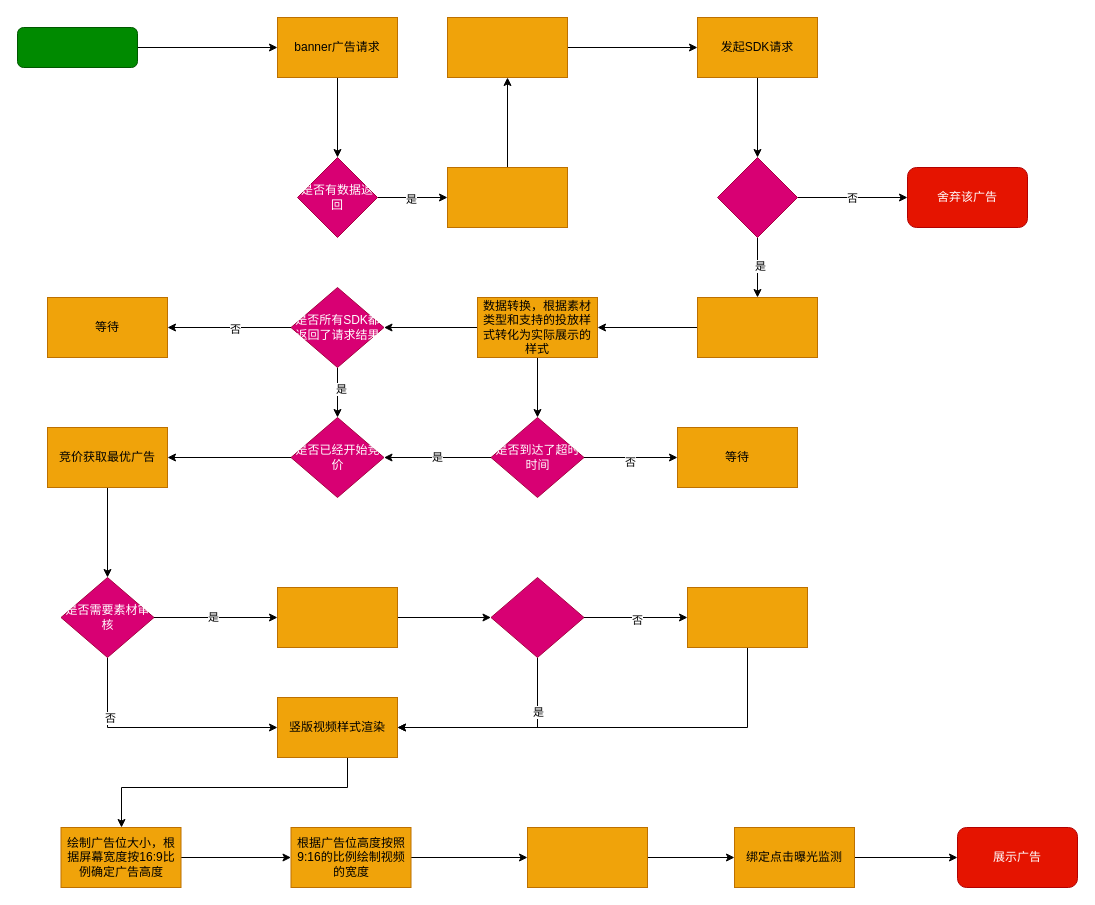
Some shapes in this 1095 by 905 pixel diagram are drawn without their labels. The centre of each missing label's shape, as x and y in pixels:
墨迹服务器返回广告投放: the point at 507,47
审核是否通过: the point at 537,617
广告请求: the point at 507,197
开始: the point at 77,47
是否返回广告素材: the point at 757,197
素材审核: the point at 337,617
绑定视频的播放相关的监测回调: the point at 587,857
获取一条免审的广告: the point at 747,617
过滤不可用的素材: the point at 757,327
